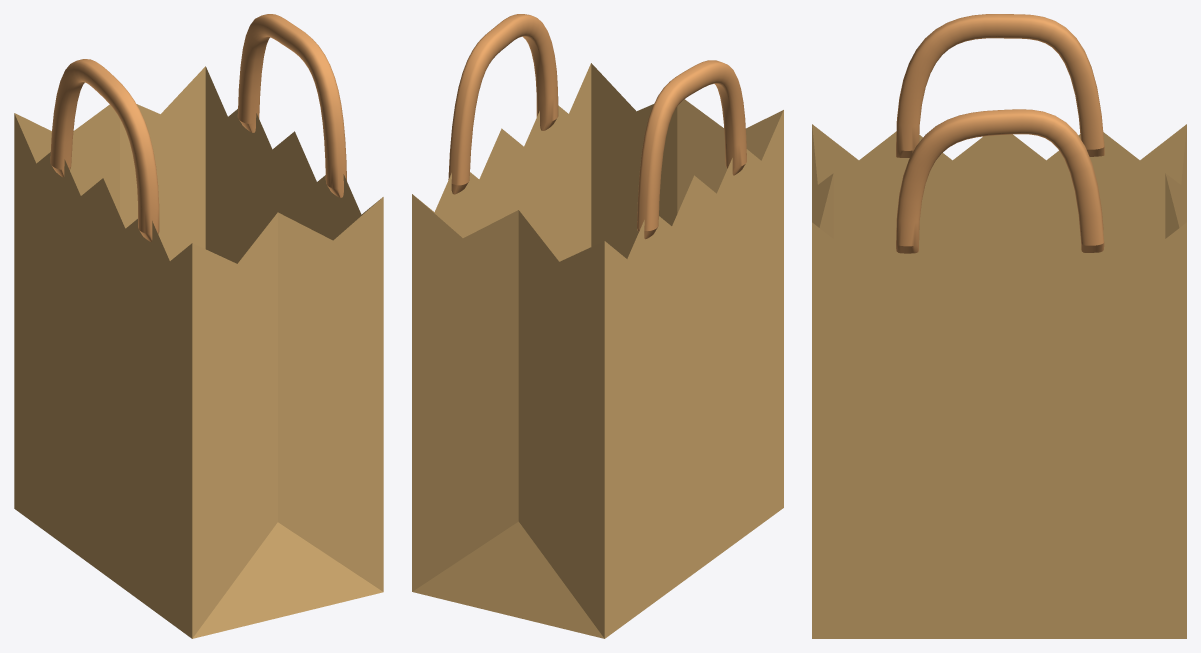
File: paper_bag.glb
3 renders of one model, left to right at view 1: azimuth 30°, elevation 25°; view 2: azimuth 150°, elevation 25°; view 3: azimuth 270°, elevation 25°, orthographic. The views are drawn at different scales.
Visible parts, largest first — view 1: Cube, BezierCurve; view 2: Cube, BezierCurve; view 3: Cube, BezierCurve.
Part boxes in pixels (box(x1,y1,x2,y2)): Cube: box(14, 66, 383, 638); BezierCurve: box(50, 14, 346, 241); Cube: box(412, 63, 783, 638); BezierCurve: box(448, 14, 746, 239); Cube: box(812, 124, 1186, 638); BezierCurve: box(896, 14, 1104, 253).
Bounding box in the file's own units: 1.1 × 2.53 × 1.63.
